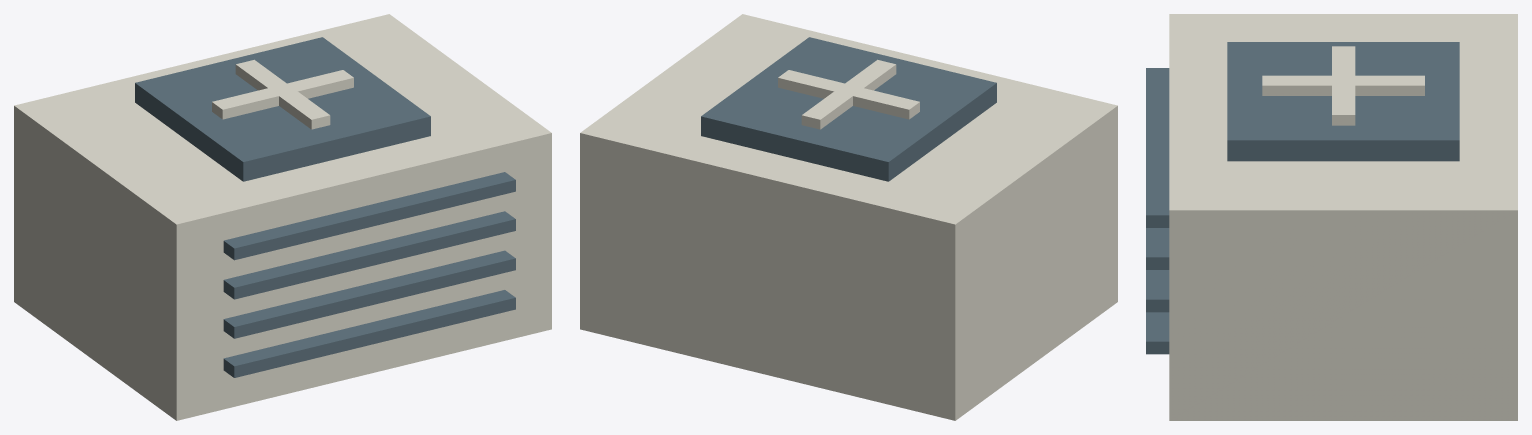
The model's file is voxel-city-districts-hvac-box-af78f166__24919.glb.
The picture shows the model from 3 angles, left to right: view 1: azimuth 30°, elevation 25°; view 2: azimuth 150°, elevation 25°; view 3: azimuth 270°, elevation 25°; orthographic projection. The views are drawn at different scales.
Visible parts, largest first — view 1: hvac-box-concrete, hvac-box-dark; view 2: hvac-box-concrete, hvac-box-dark; view 3: hvac-box-concrete, hvac-box-dark.
Part boxes in pixels (x1,y1,x2,y2): hvac-box-concrete: (14,14,551,420); hvac-box-dark: (135,37,515,377); hvac-box-concrete: (580,14,1117,420); hvac-box-dark: (701,37,996,181); hvac-box-concrete: (1169,14,1517,420); hvac-box-dark: (1146,42,1459,354).
Bounding box in the file's own units: 2 × 1.15 × 1.6.
